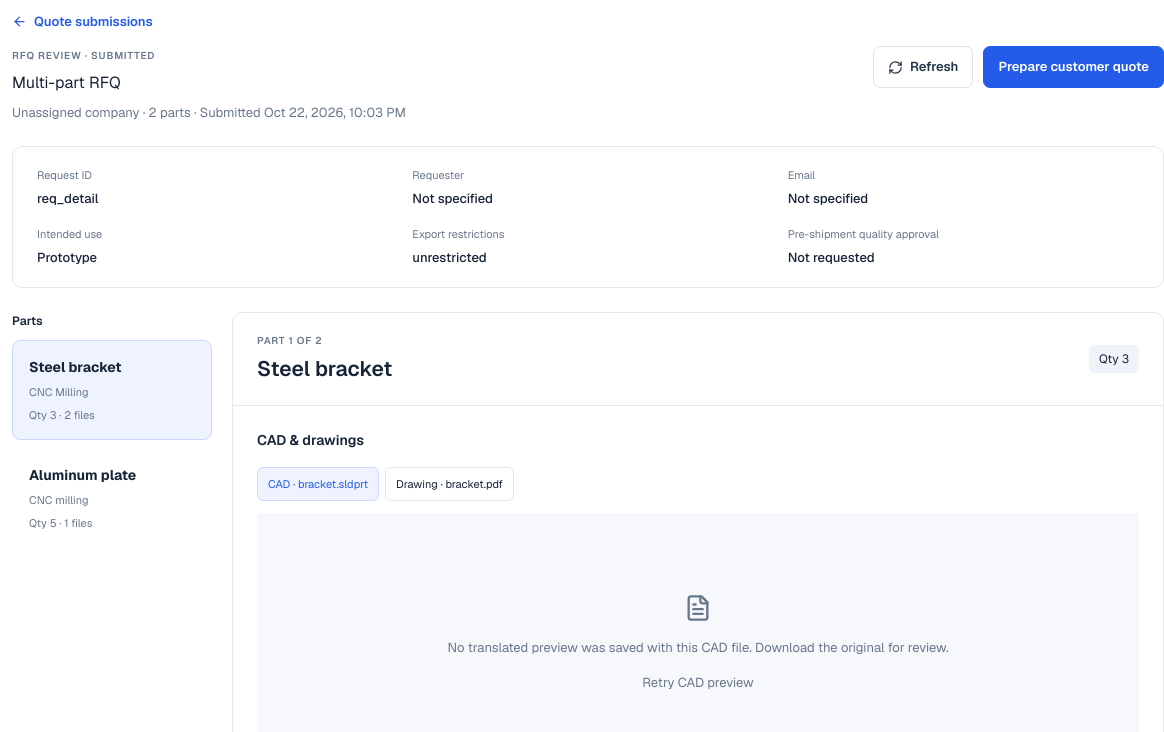
it: AdminRfqDetail › retries the selected saved original and explains an Autodesk capacity refusal
Click the button "Retry CAD preview": {"x": 698, "y": 683} [642,673,754,692]
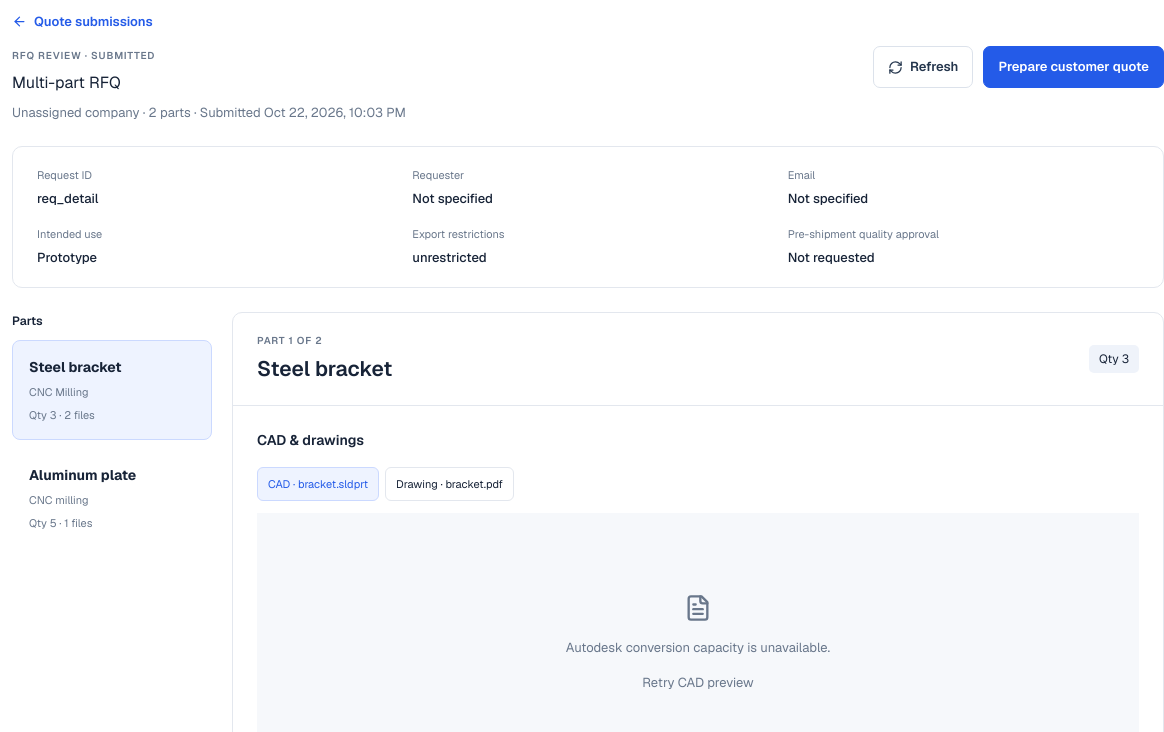
Now the text "Autodesk conversion capacity is unavailable." is shown, box [566,638,830,657]
